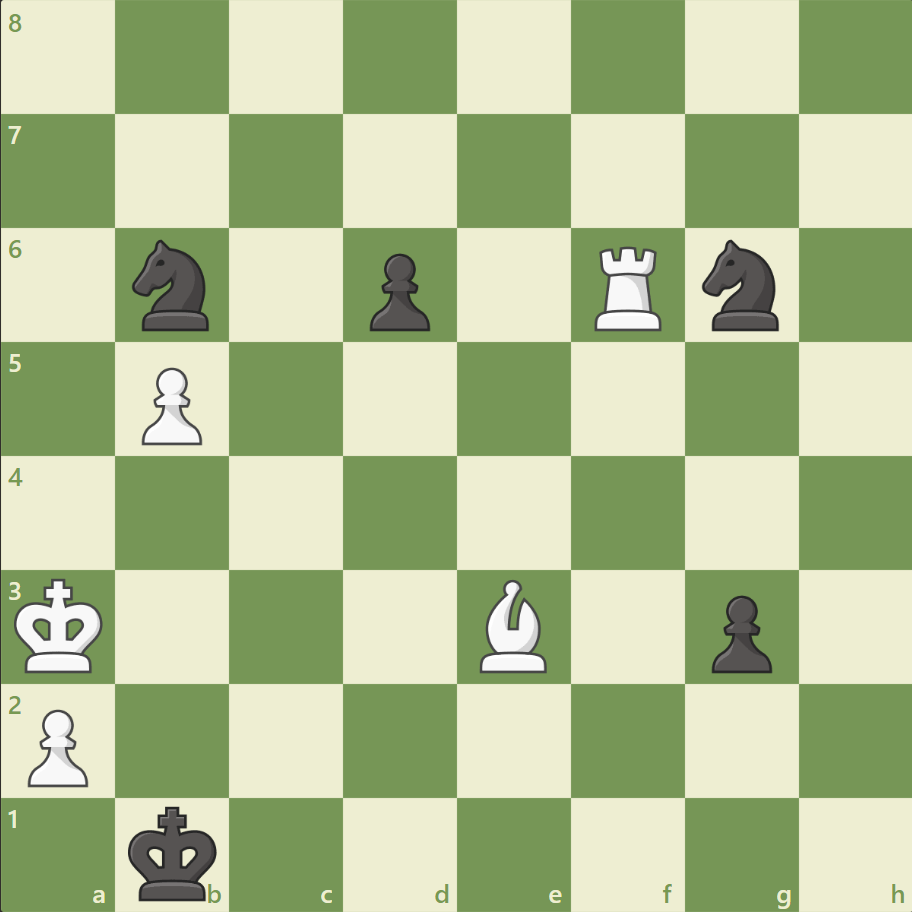B: (471, 574, 555, 676)
K: (11, 571, 111, 679)
P: (133, 359, 208, 450), (20, 700, 95, 791)
R: (587, 239, 670, 336)
k: (124, 798, 224, 906)
n: (124, 234, 222, 337), (692, 234, 789, 337)
p: (701, 586, 776, 677), (361, 246, 435, 337)
